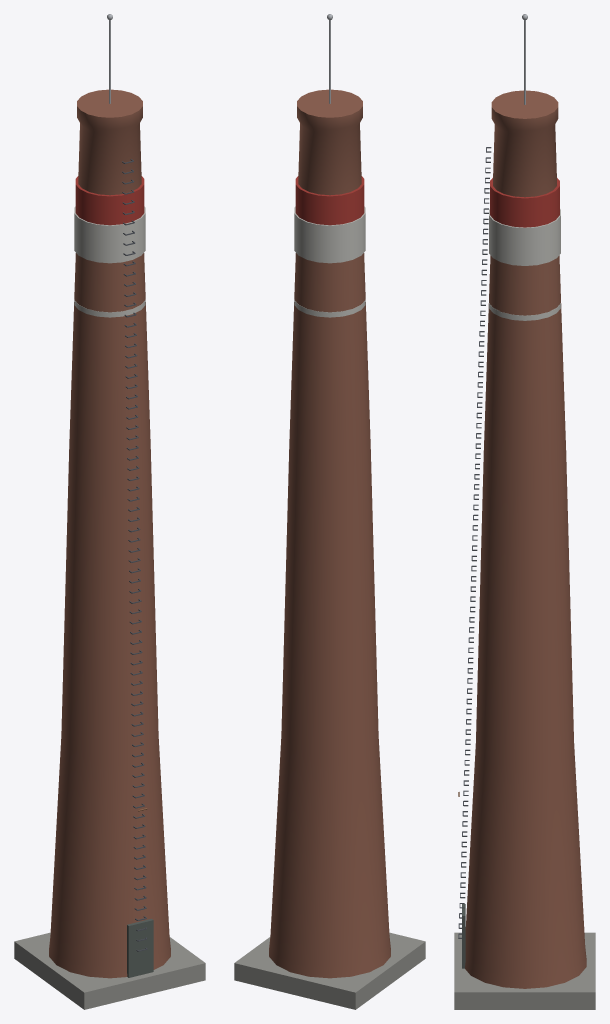
The model's file is chimney_brick_30m.glb.
3 views of the same model, side by side, from view 1: azimuth 30°, elevation 25°; view 2: azimuth 150°, elevation 25°; view 3: azimuth 270°, elevation 25° (orthographic).
Parts seen in each view (by area): view 1: chimney_mesh, staples_loose, staples_ok; view 2: chimney_mesh; view 3: chimney_mesh, staples_loose, staples_ok.
Part boxes in pixels (x1,y1,x2,y2): chimney_mesh: (14, 14, 205, 1009); staples_loose: (122, 159, 147, 951); staples_ok: (123, 159, 147, 951); chimney_mesh: (234, 14, 425, 1009); chimney_mesh: (454, 14, 595, 1009); staples_loose: (458, 147, 491, 938); staples_ok: (458, 147, 491, 938).
Size of what is drawn, in the model's own units: 4.4 by 33.1 by 4.4.
